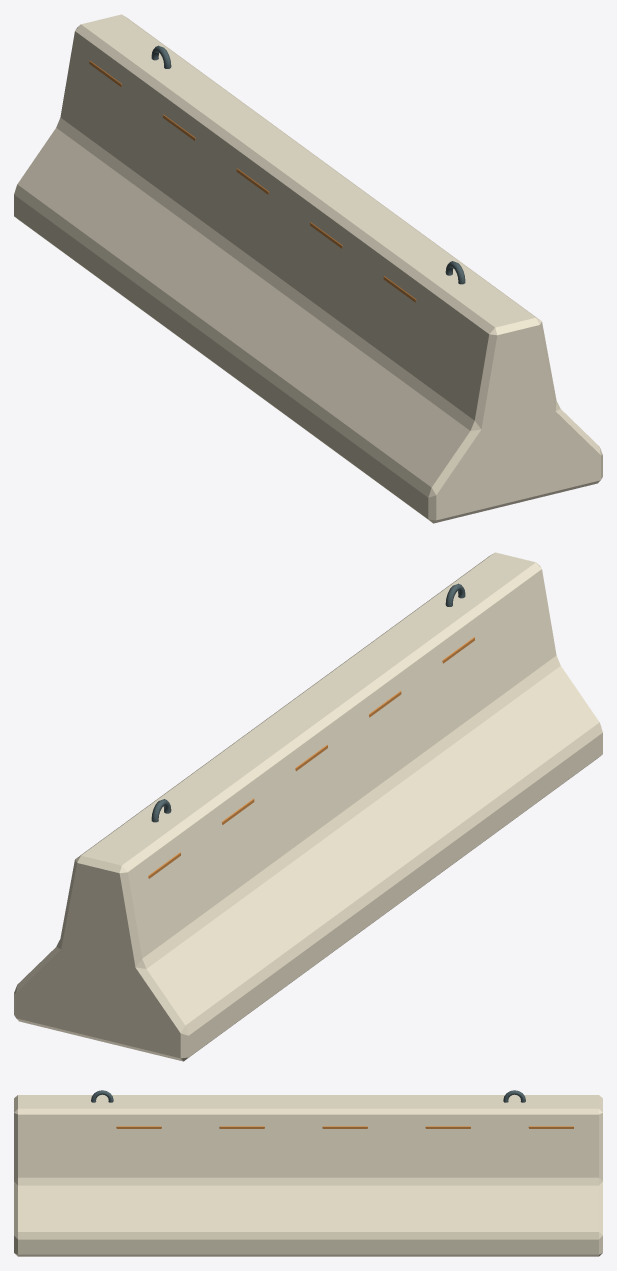
File: quay-barrier.high.glb
3 renders of one model, top to bottom at view 1: azimuth 30°, elevation 25°; view 2: azimuth 150°, elevation 25°; view 3: azimuth 270°, elevation 25°, orthographic. The views are drawn at different scales.
Visible parts, largest first — view 1: geometry:body:0, geometry:body:2; view 2: geometry:body:0, geometry:body:2; view 3: geometry:body:0, geometry:body:2, geometry:body:1.
Boxes of the visible parts, bbox=[...] form: geometry:body:0: bbox=[14, 14, 602, 523]; geometry:body:2: bbox=[89, 60, 416, 302]; geometry:body:0: bbox=[14, 552, 602, 1061]; geometry:body:2: bbox=[148, 637, 474, 878]; geometry:body:0: bbox=[14, 1095, 602, 1256]; geometry:body:2: bbox=[116, 1126, 573, 1128]; geometry:body:1: bbox=[91, 1090, 525, 1102].
Bounding box in the file's own units: 0.96 × 1.04 × 4.
